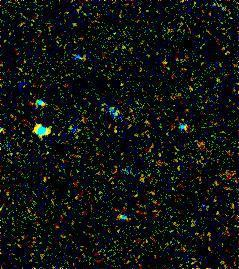star: (98, 113, 128, 143)
